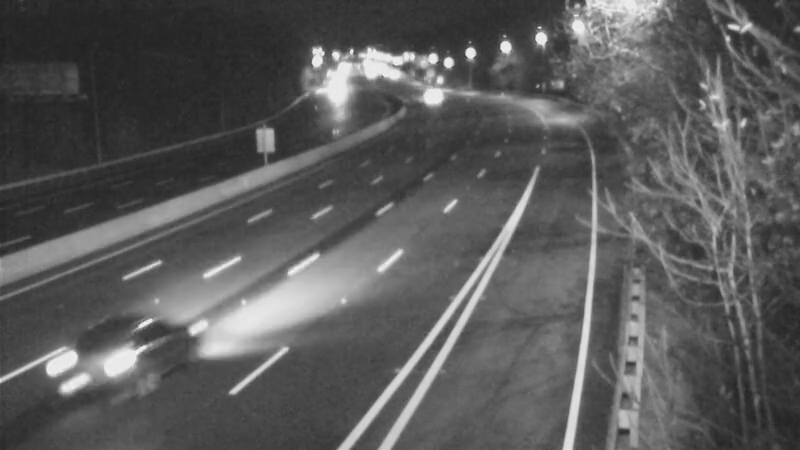vehicle: (42, 314, 152, 424), (403, 71, 453, 121), (309, 70, 359, 120)
